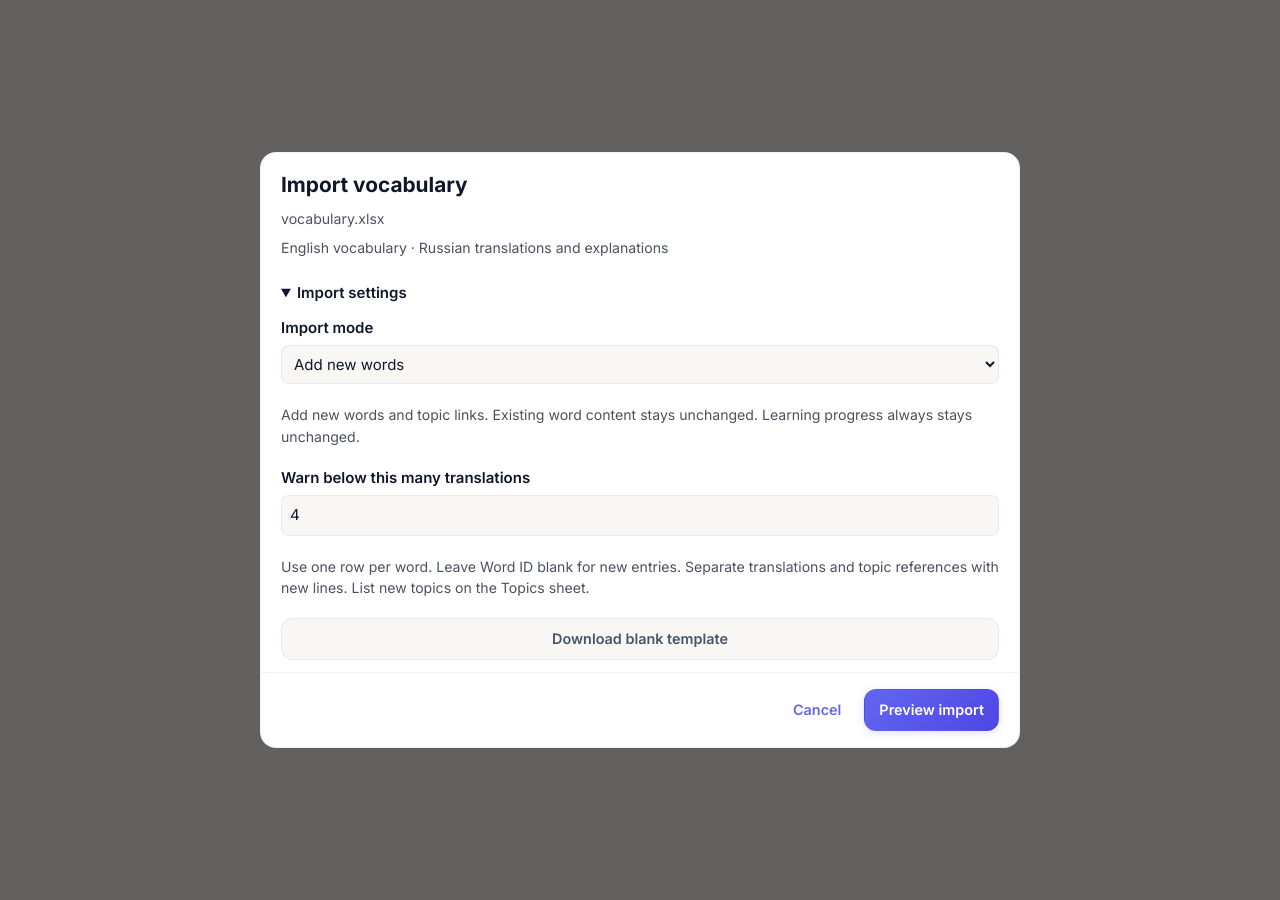
Test: Workbook import review › never imports automatically and requires a reviewed preview
This screenshot has width=1280, height=900.
Click the button "Preview import" at (932, 710), box top-left (864, 689), bottom-right (999, 731)
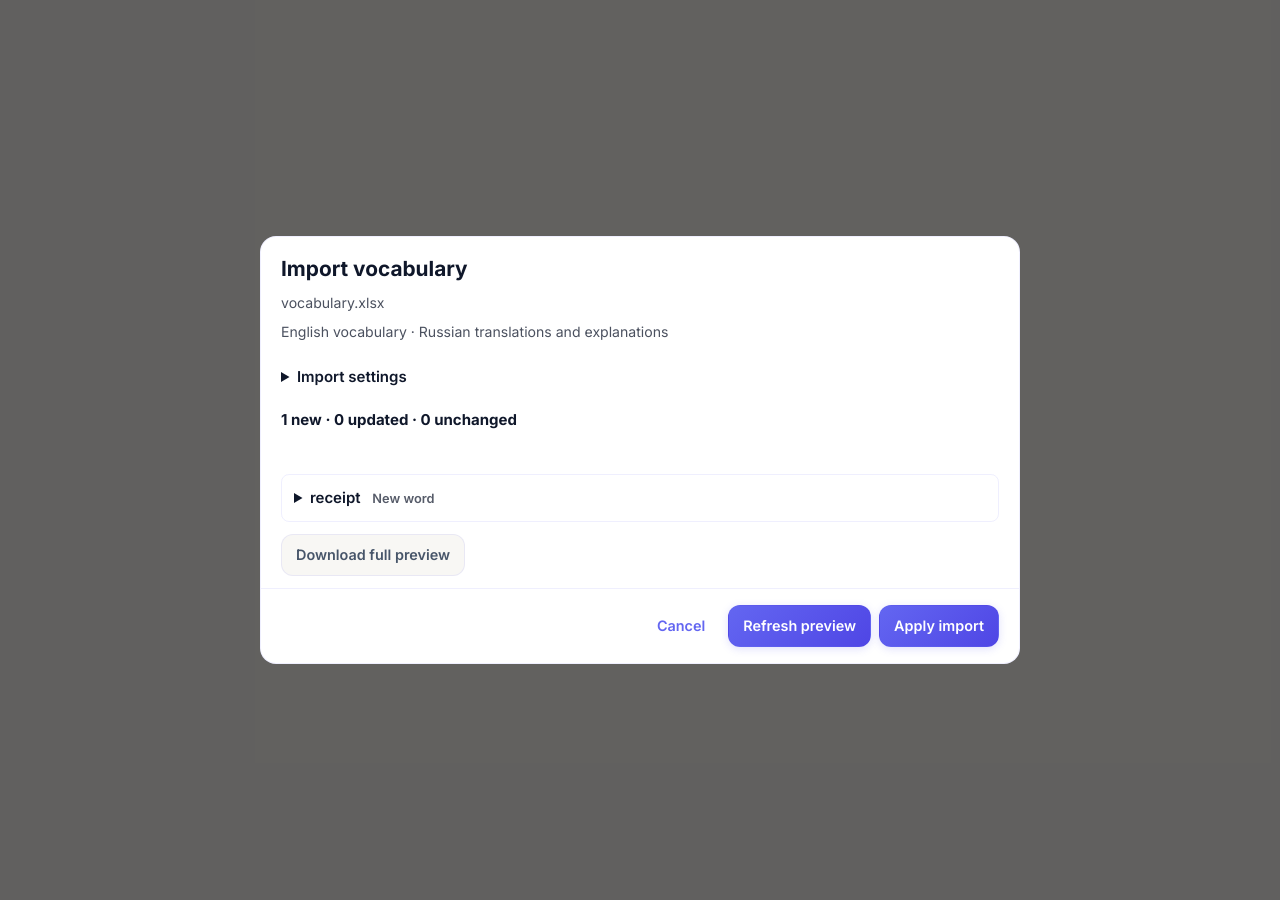
expect the element named "Import preview" is shown: met, box top-left (281, 409), bottom-right (999, 576)
Click the button "Apply import" at (939, 626), box top-left (879, 605), bottom-right (999, 647)
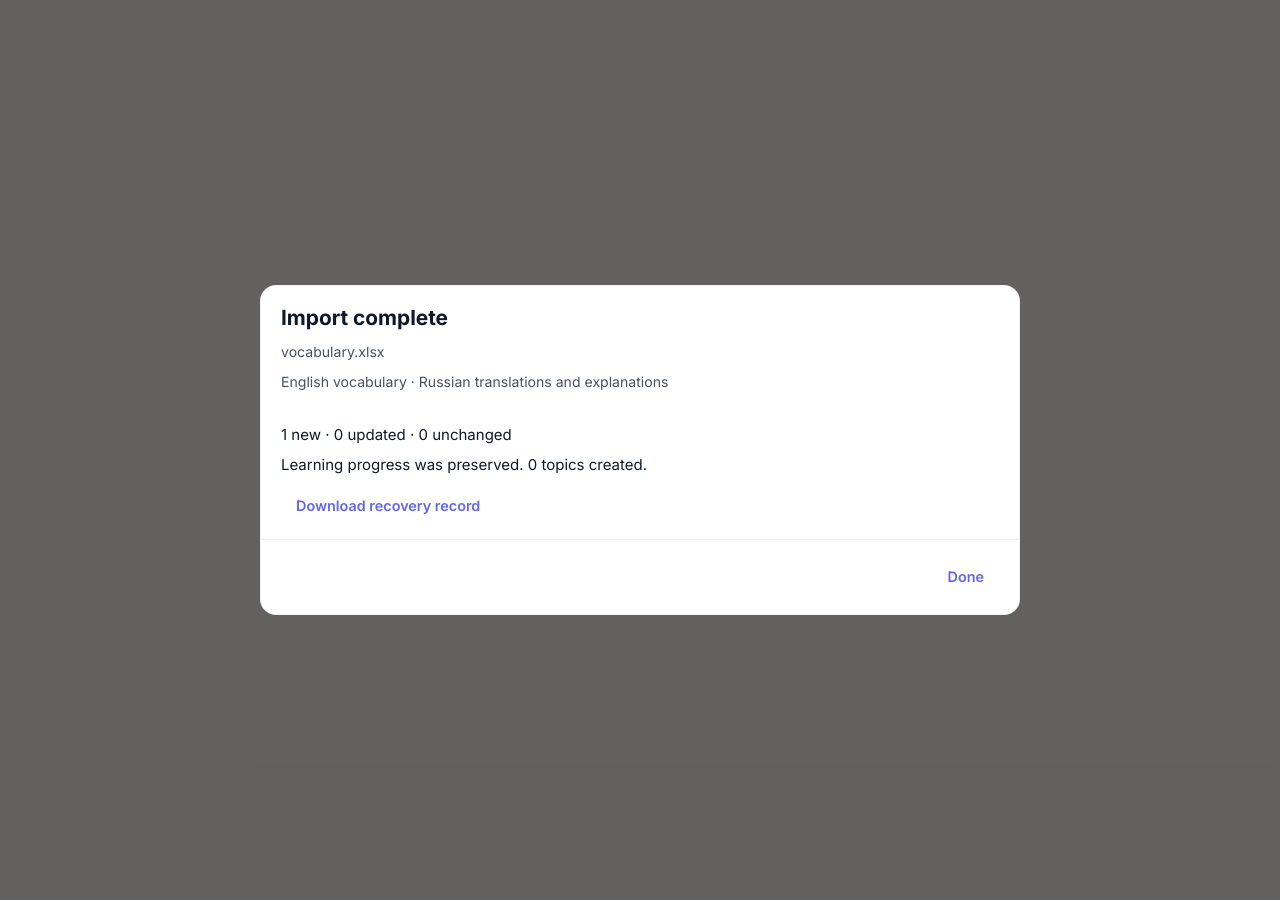
expect the heading "Import complete" is shown: met, box top-left (281, 305), bottom-right (448, 330)
